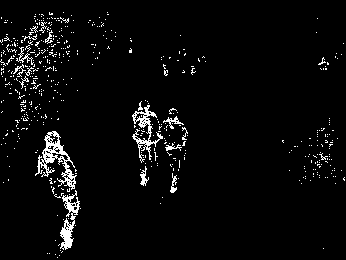person: (38, 130, 83, 252), (130, 97, 161, 188), (160, 106, 188, 194)
